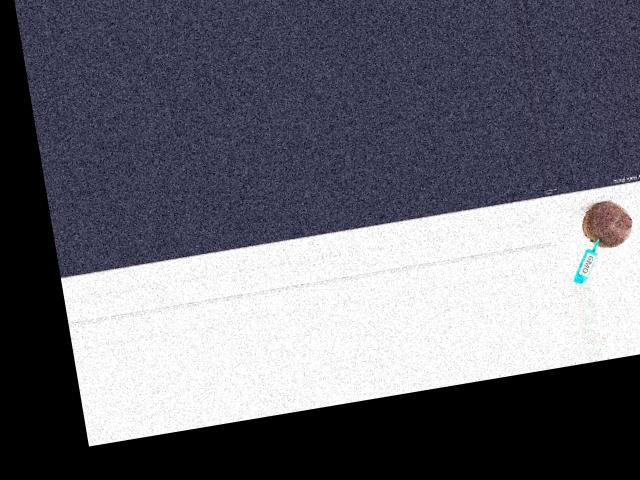beet: (578, 197, 635, 251)
